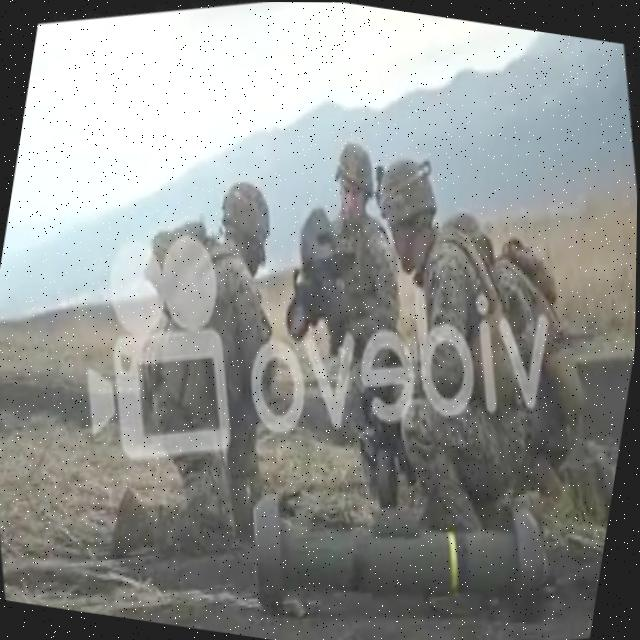rocket: (233, 429, 579, 640)
